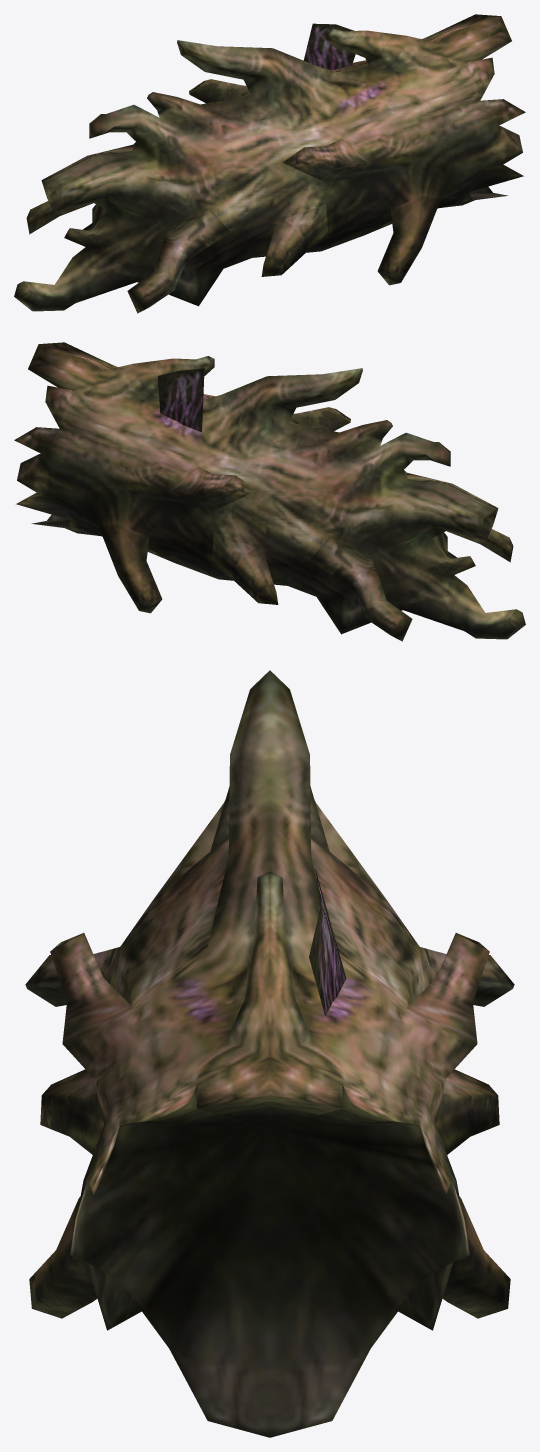
Rendered from ts_yxobj015.FBX.
3 views of the same model, one above another, from view 1: azimuth 30°, elevation 25°; view 2: azimuth 150°, elevation 25°; view 3: azimuth 270°, elevation 25° (orthographic). The views are drawn at different scales.
Visible parts, largest first — view 1: ts_yxobj015; view 2: ts_yxobj015; view 3: ts_yxobj015.
Part boxes in pixels (x1=…): ts_yxobj015: x1=14, y1=14, x2=525, y2=313; ts_yxobj015: x1=14, y1=342, x2=525, y2=641; ts_yxobj015: x1=25, y1=670, x2=514, y2=1437.
Size of the model in its own units: 7.47 by 3.61 by 3.25.
